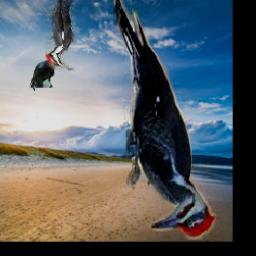Crow: (30, 56, 62, 91)
Woodpecker: (113, 0, 216, 241), (47, 0, 80, 70)
